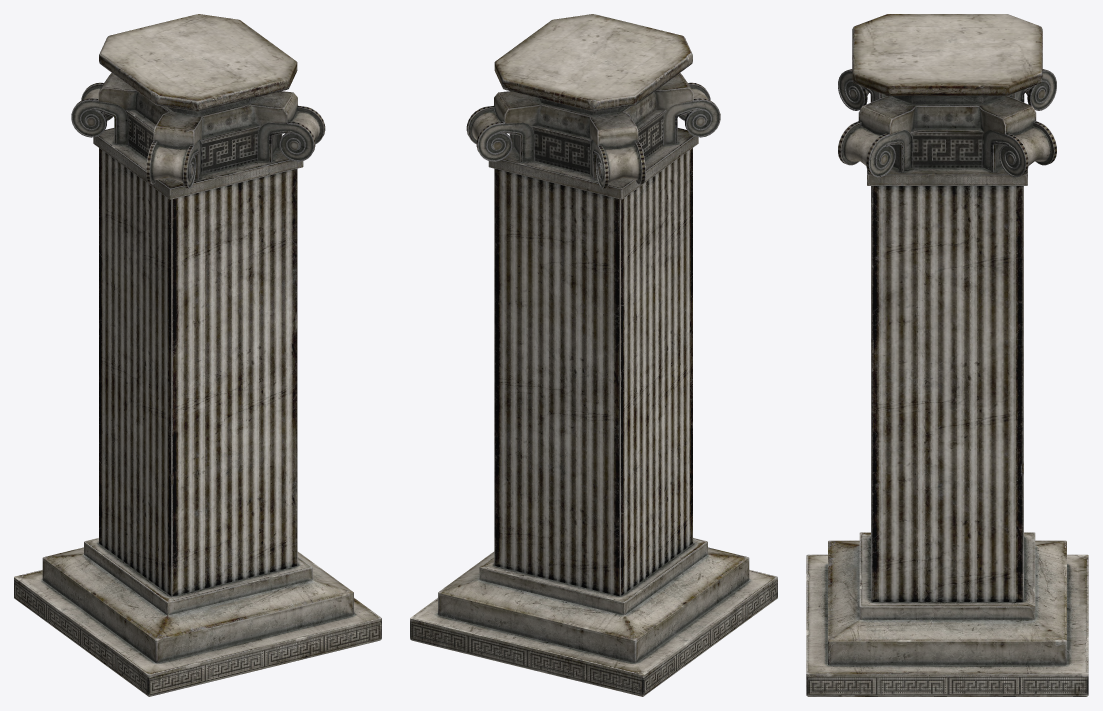
The model's file is statutt3.glb.
3 renders of one model, left to right at view 1: azimuth 30°, elevation 25°; view 2: azimuth 150°, elevation 25°; view 3: azimuth 270°, elevation 25°, orthographic. The views are drawn at different scales.
Parts seen in each view (by area): view 1: Squared Ionic Classical Pedestal.001; view 2: Squared Ionic Classical Pedestal.001; view 3: Squared Ionic Classical Pedestal.001.
Part boxes in pixels (x1=…): Squared Ionic Classical Pedestal.001: x1=14, y1=14, x2=381, y2=696; Squared Ionic Classical Pedestal.001: x1=410, y1=14, x2=777, y2=696; Squared Ionic Classical Pedestal.001: x1=806, y1=14, x2=1088, y2=696.
Bounding box in the file's own units: 0.402 × 0.9237 × 0.4013.
Materials: 1 (1 with a texture image).
